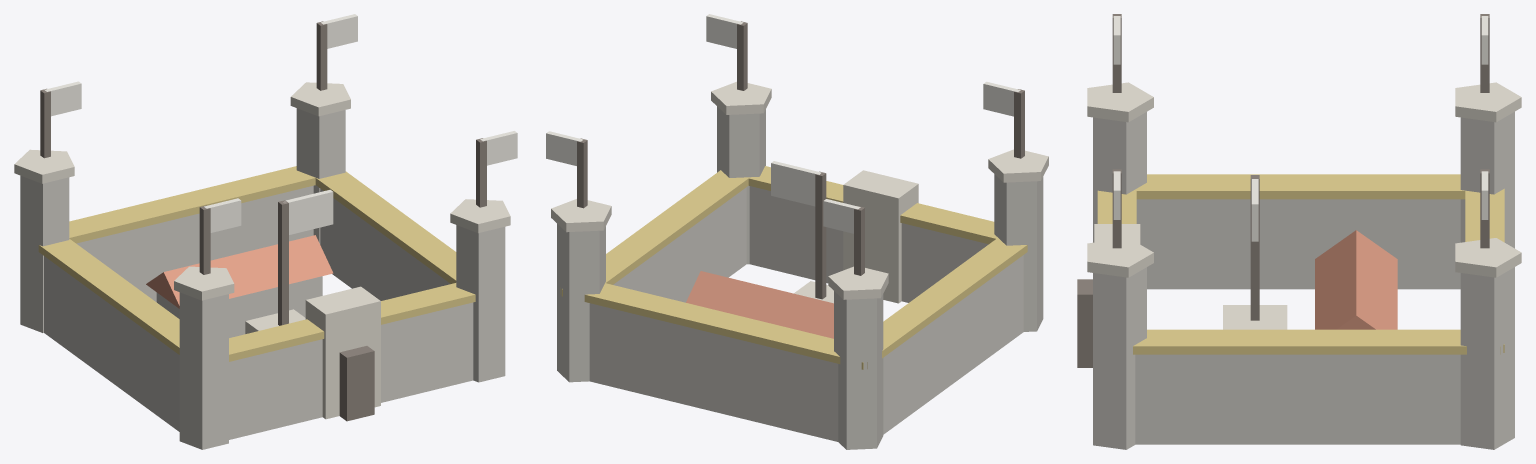
Rendered from fort.glb.
3 renders of one model, left to right at view 1: azimuth 30°, elevation 25°; view 2: azimuth 150°, elevation 25°; view 3: azimuth 270°, elevation 25°, orthographic. The views are drawn at different scales.
Parts seen in each view (by area): view 1: classical_fort; view 2: classical_fort; view 3: classical_fort.
Boxes of the visible parts, <box> form: classical_fort: <box>14,14,517,449</box>; classical_fort: <box>546,14,1048,449</box>; classical_fort: <box>1077,14,1521,449</box>.
Bounding box in the file's own units: 0.9761 × 0.64 × 0.967.
